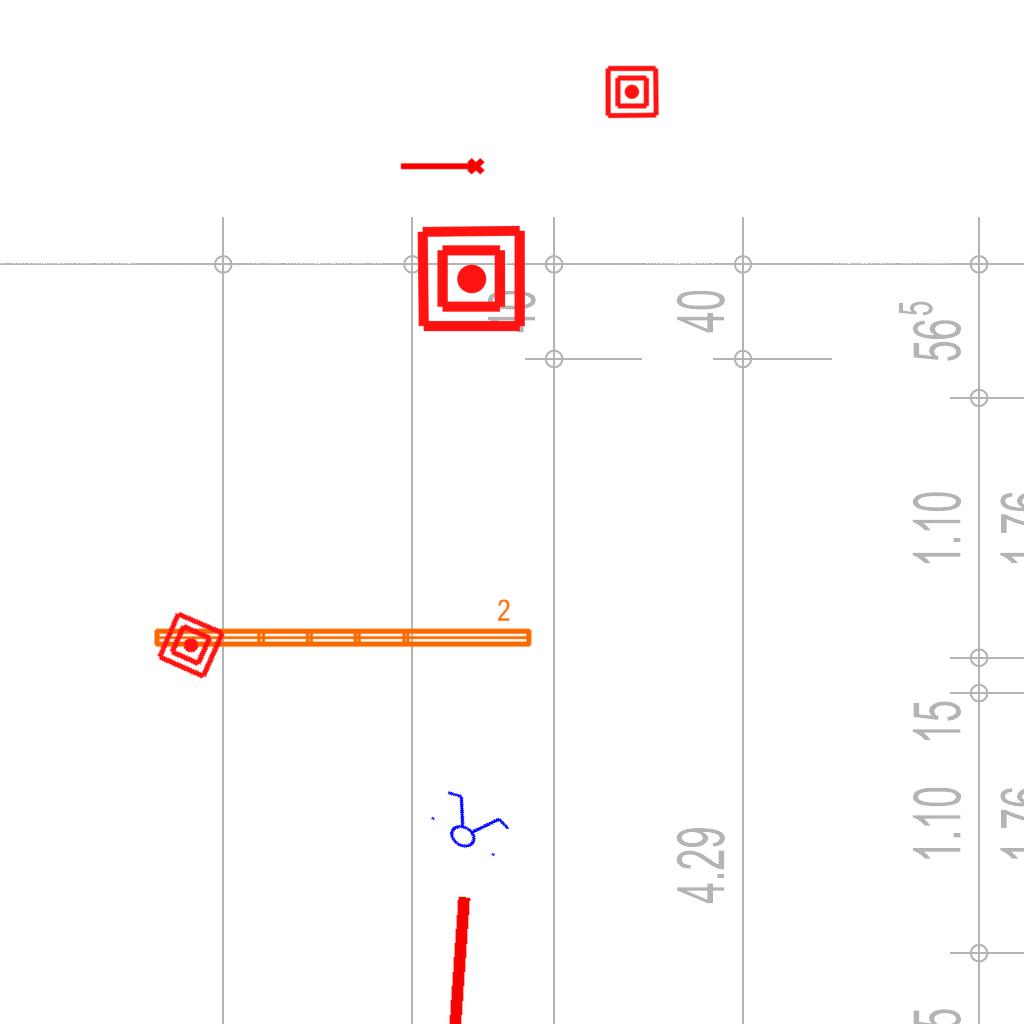ASR_Ansaugoeffnung: (426, 889, 486, 1024), (398, 156, 486, 179)
Ambulanz_Pendelleuchte_LED: (149, 597, 536, 653)
NAM-Nichtautomatischer_Melder: (415, 222, 528, 335), (154, 608, 228, 682), (604, 64, 660, 120)
Serienschalter: (420, 782, 518, 868)
